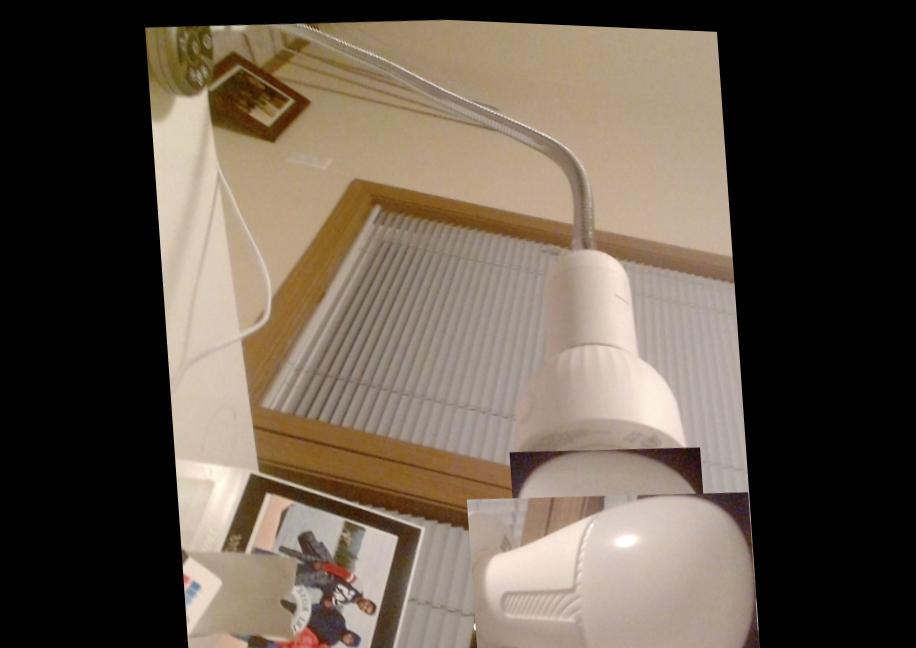Fan: (487, 455, 737, 648)
